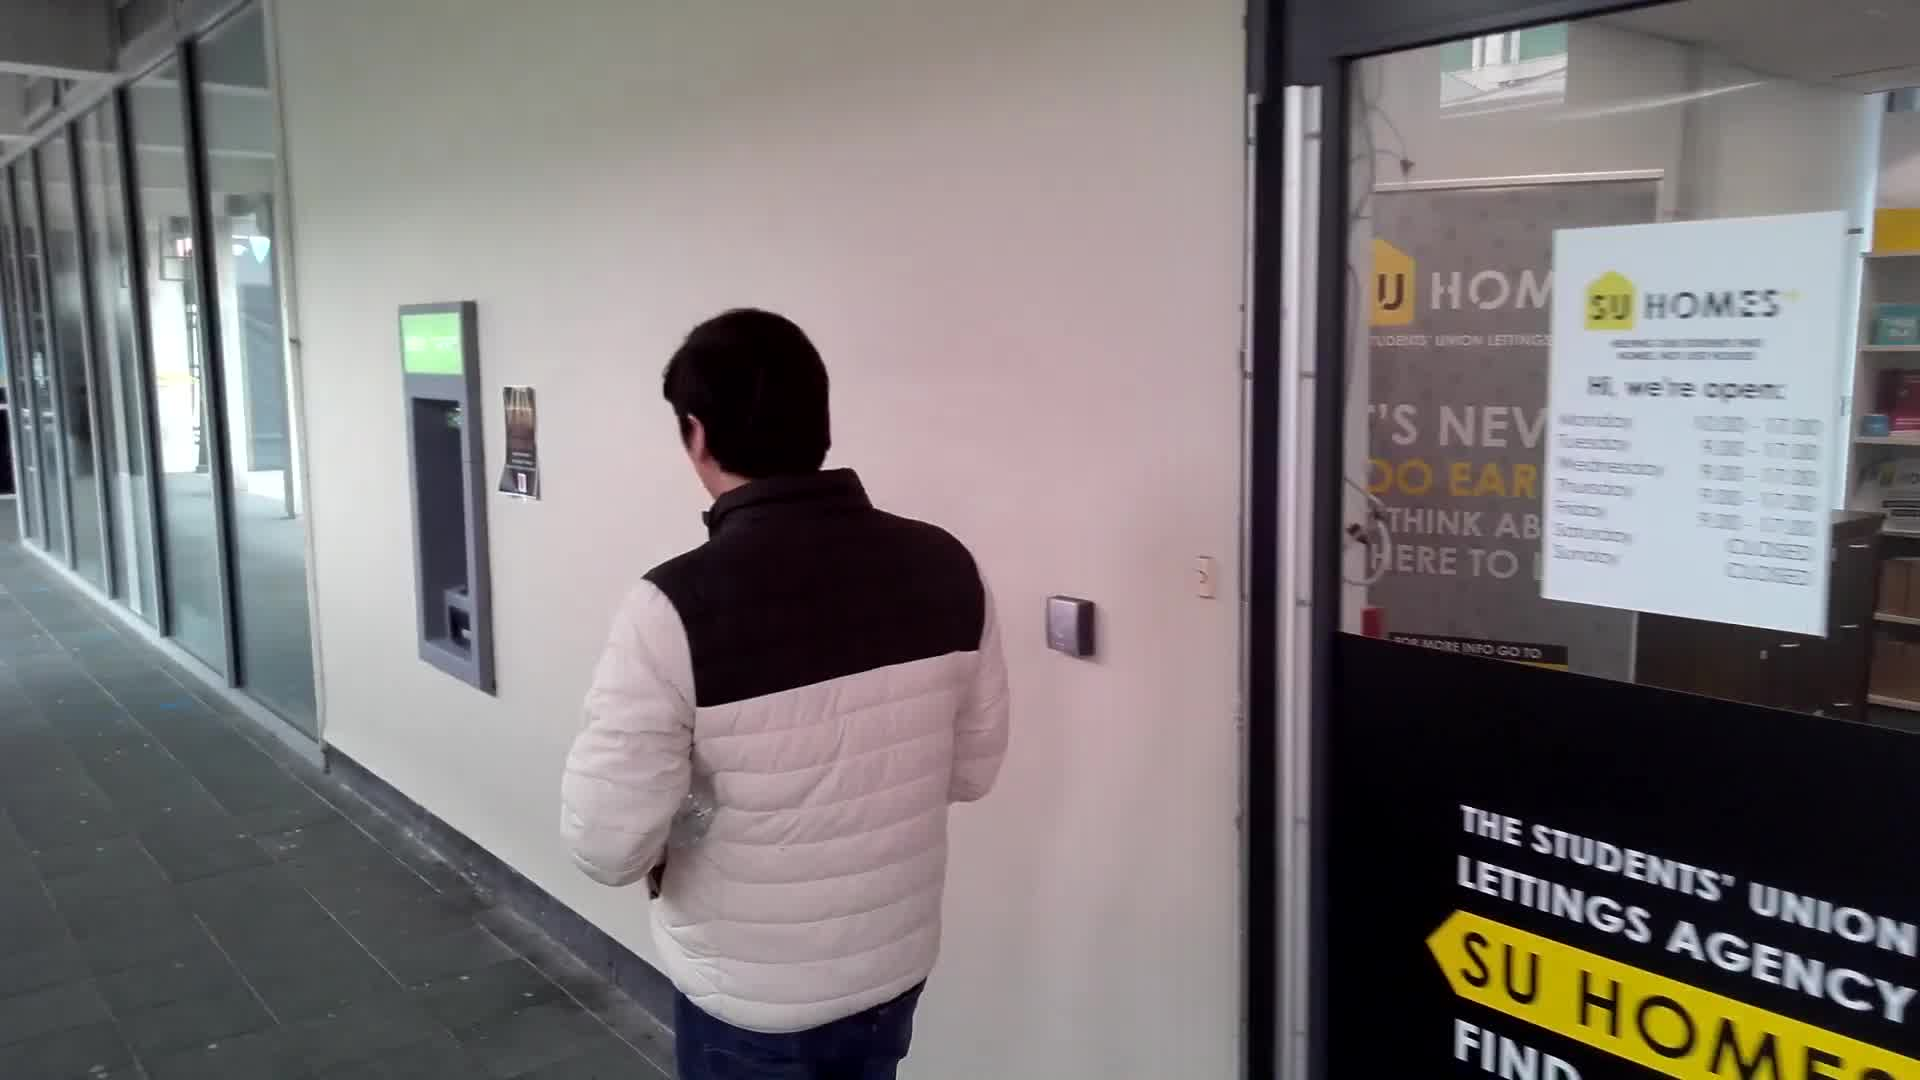Person: (628, 302, 1024, 1080)
